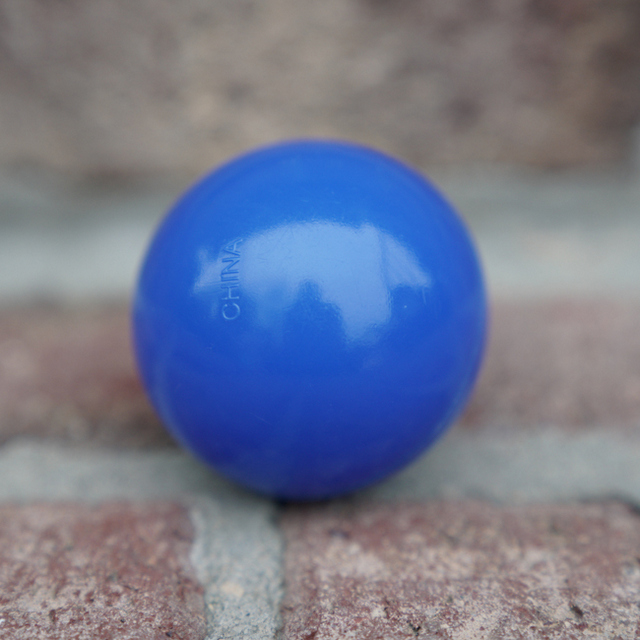Ball: (132, 138, 486, 500)
